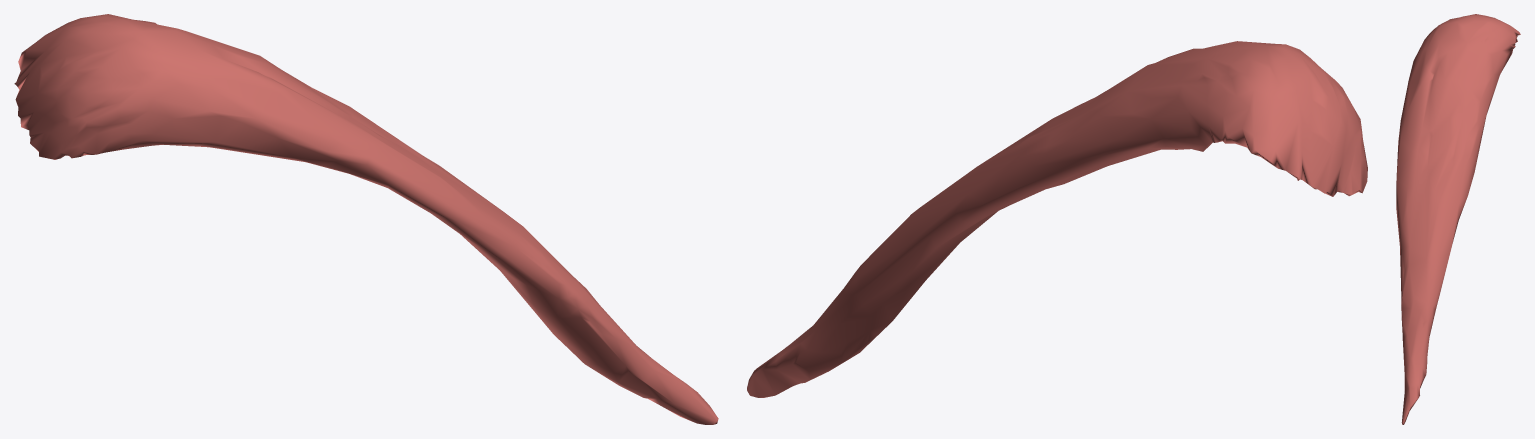
3 renders of one model, left to right at view 1: azimuth 30°, elevation 25°; view 2: azimuth 150°, elevation 25°; view 3: azimuth 270°, elevation 25°, orthographic. The views are drawn at different scales.
Visible parts, largest first — view 1: 左侧下孖肌; view 2: 左侧下孖肌; view 3: 左侧下孖肌.
Part boxes in pixels (box(x1,y1,x2,y2)): 左侧下孖肌: box(14, 14, 718, 424); 左侧下孖肌: box(747, 41, 1367, 397); 左侧下孖肌: box(1396, 14, 1520, 424).
Size of the model in its own units: 0.1073 by 0.08 by 0.0342.
